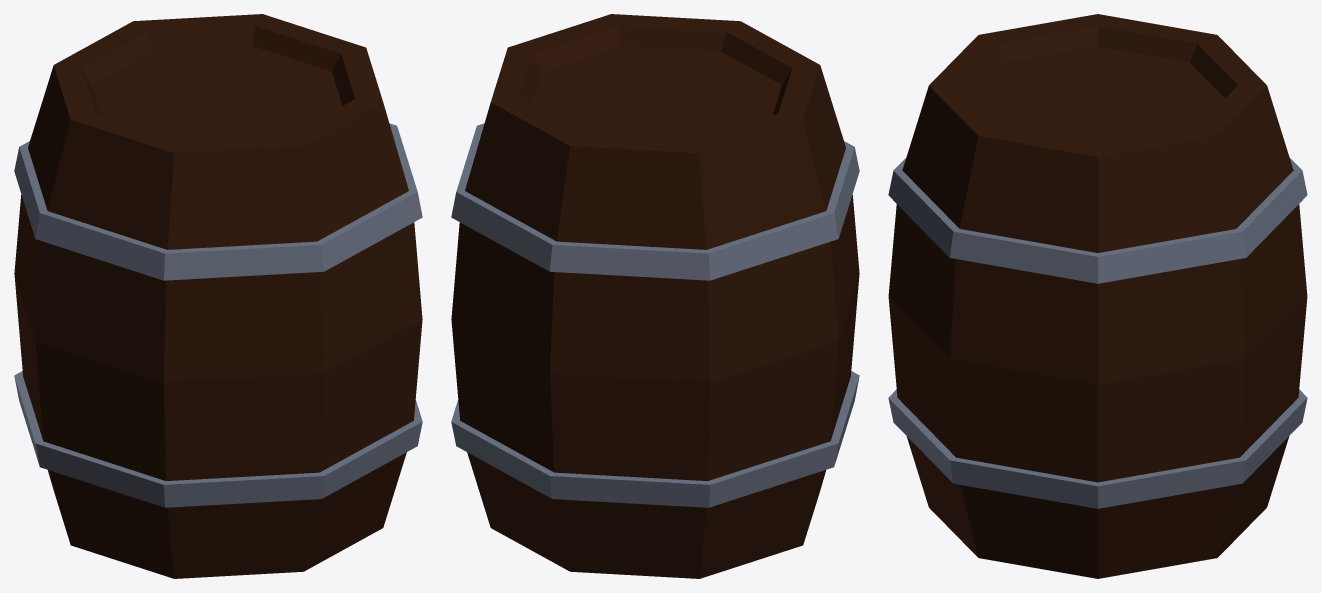
The model's file is Barrel.fbx.
The picture shows the model from 3 angles, left to right: view 1: azimuth 30°, elevation 25°; view 2: azimuth 150°, elevation 25°; view 3: azimuth 270°, elevation 25°; orthographic projection.
Parts seen in each view (by area): view 1: Barrel; view 2: Barrel; view 3: Barrel.
Part boxes in pixels (box(x1,y1,x2,y2)): Barrel: box(14, 14, 422, 578); Barrel: box(451, 14, 859, 578); Barrel: box(888, 14, 1307, 578).
Bounding box in the file's own units: 248 × 275 × 248.
